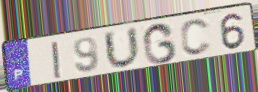6: (218, 12, 248, 51)
9: (71, 36, 101, 75)
C: (178, 18, 213, 58)
G: (141, 21, 179, 65)
I: (50, 40, 64, 81)
U: (101, 25, 143, 71)
